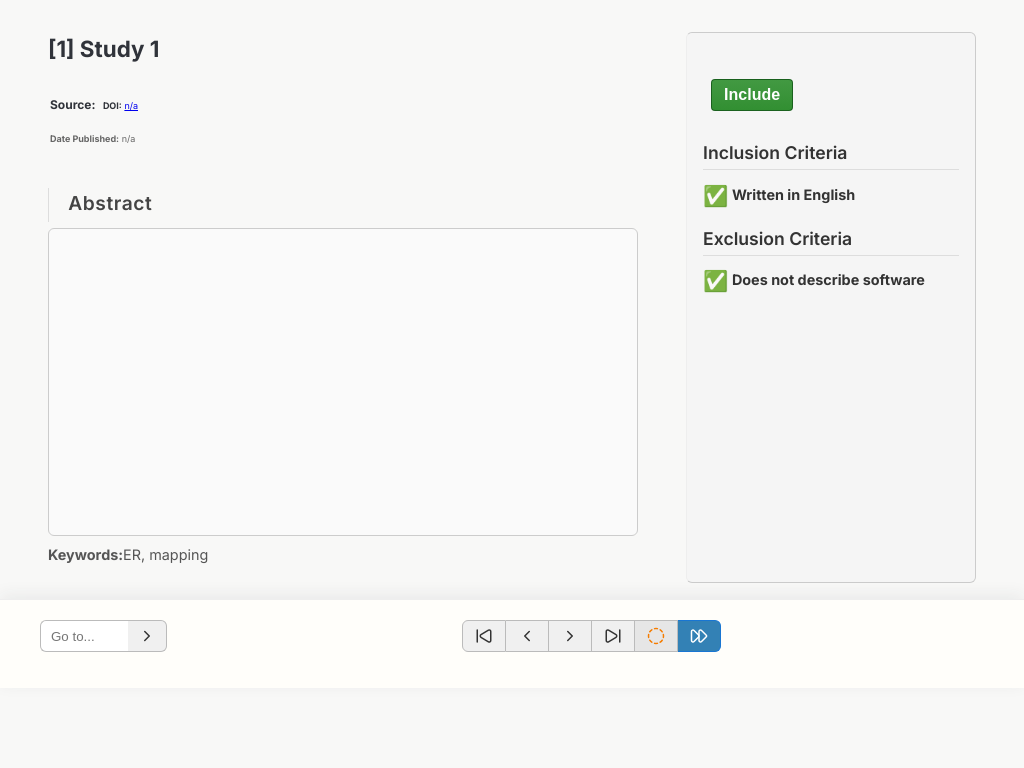
it: EvidenceEditor › navigates to first, last, and undecided records
Check: the heading "[1] Study 1" is shown, box [48,35,160,62]
Click the button titled "First item" at (484, 636), box [462,620,506,652]
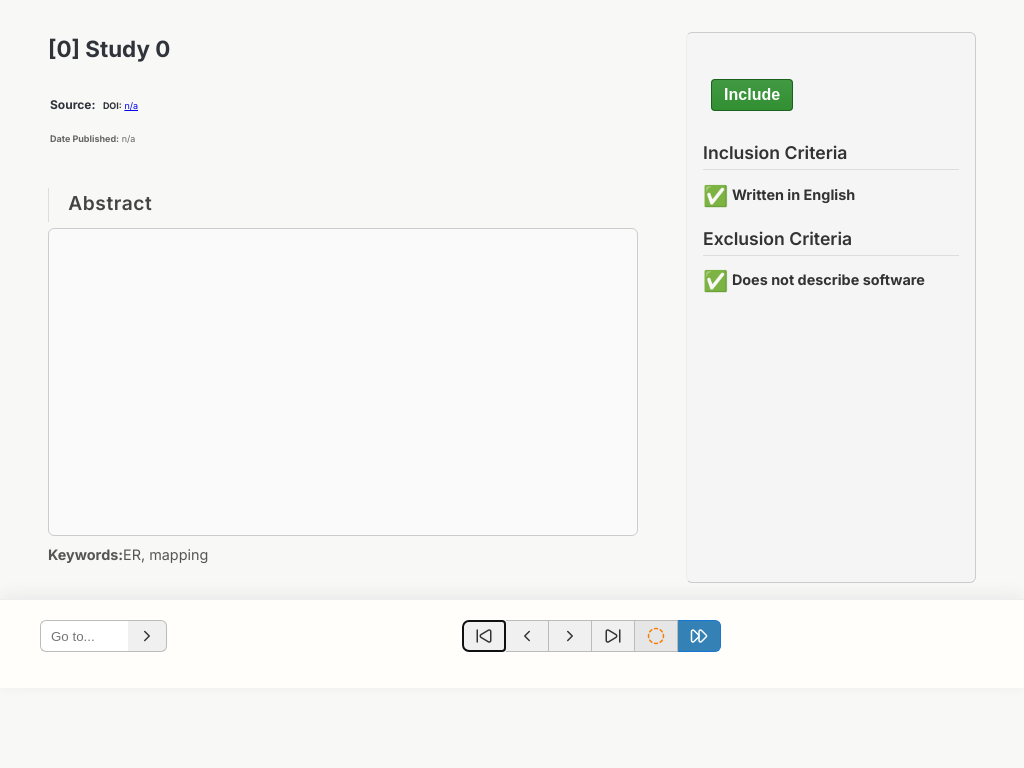
Check: the heading "[0] Study 0" is shown, box [48,35,170,62]
Click the button titled "Last item" at (614, 636), box [592,620,635,652]
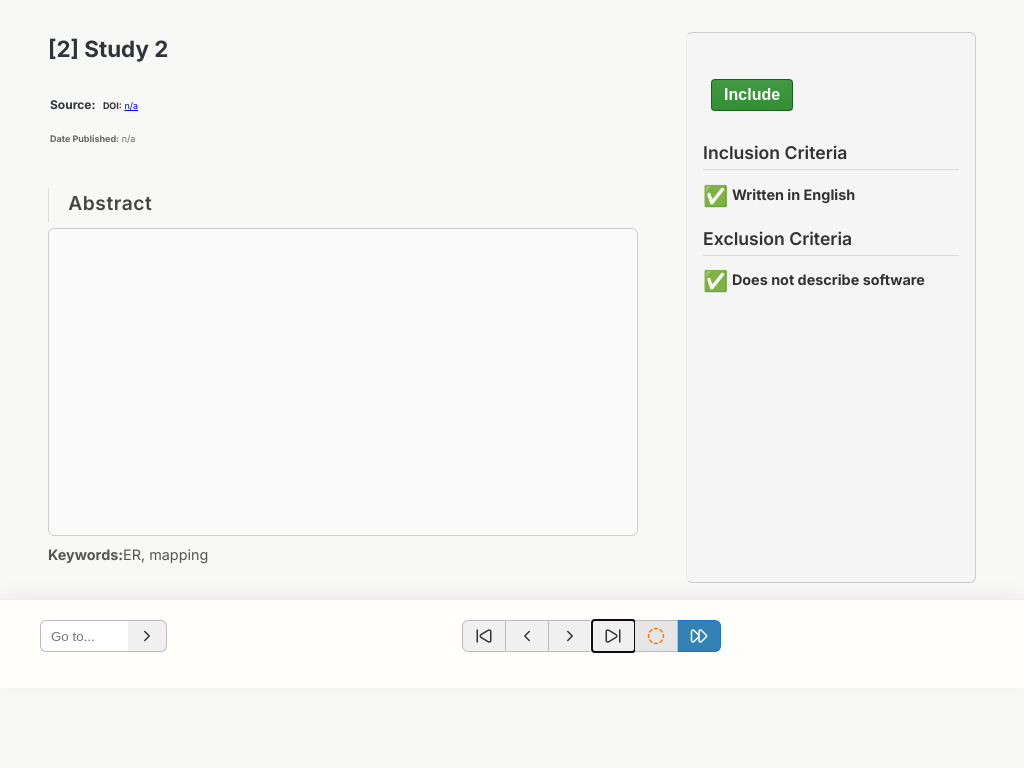
Check: the heading "[2] Study 2" is shown, box [48,35,168,62]
Click the button titled "First undecided item" at (656, 636), box [635,620,678,652]
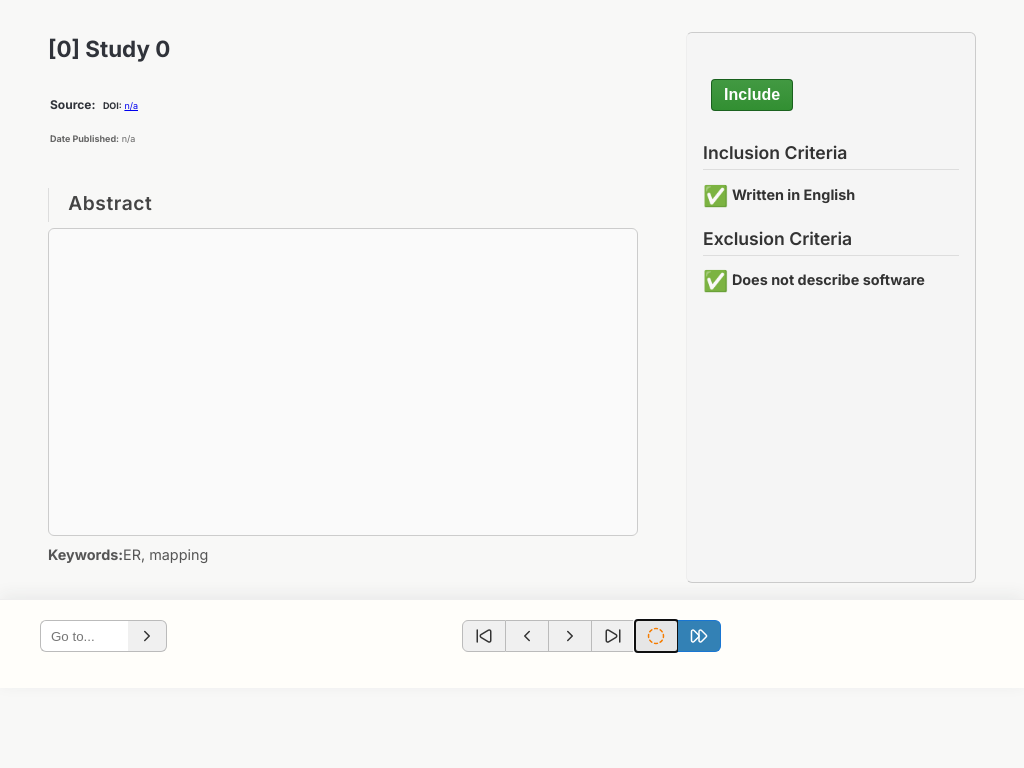
Check: the heading "[0] Study 0" is shown, box [48,35,170,62]
Click the button titled "Next undecided item" at (700, 636), box [678,620,721,652]
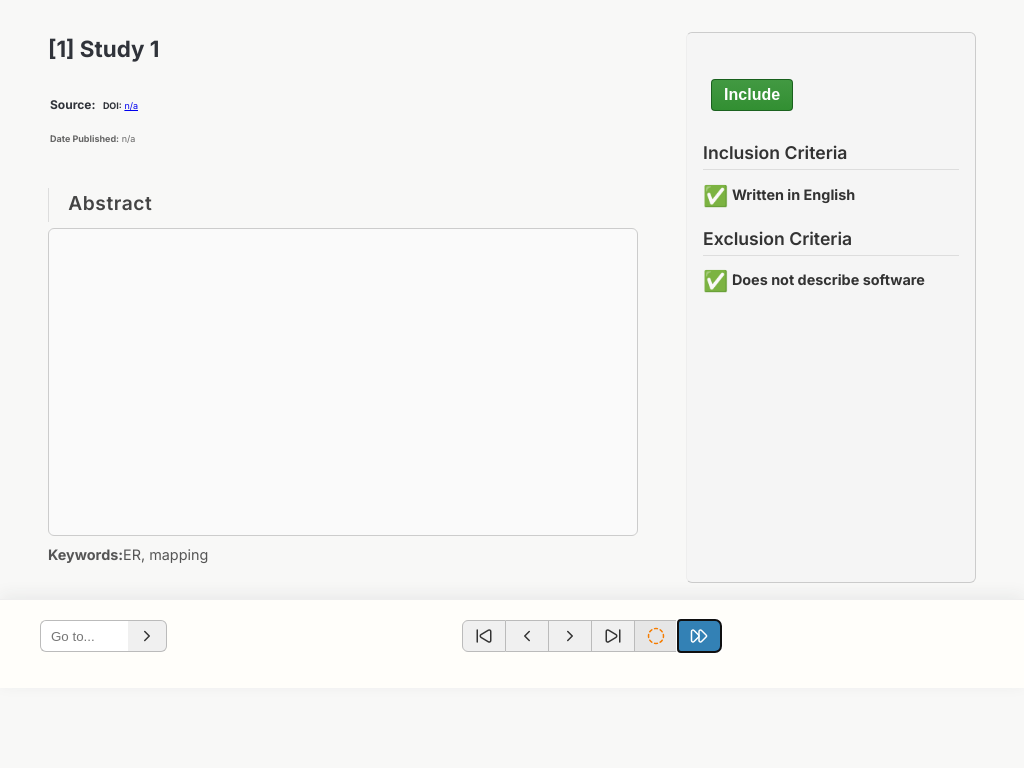
Check: the heading "[1] Study 1" is shown, box [48,35,160,62]
